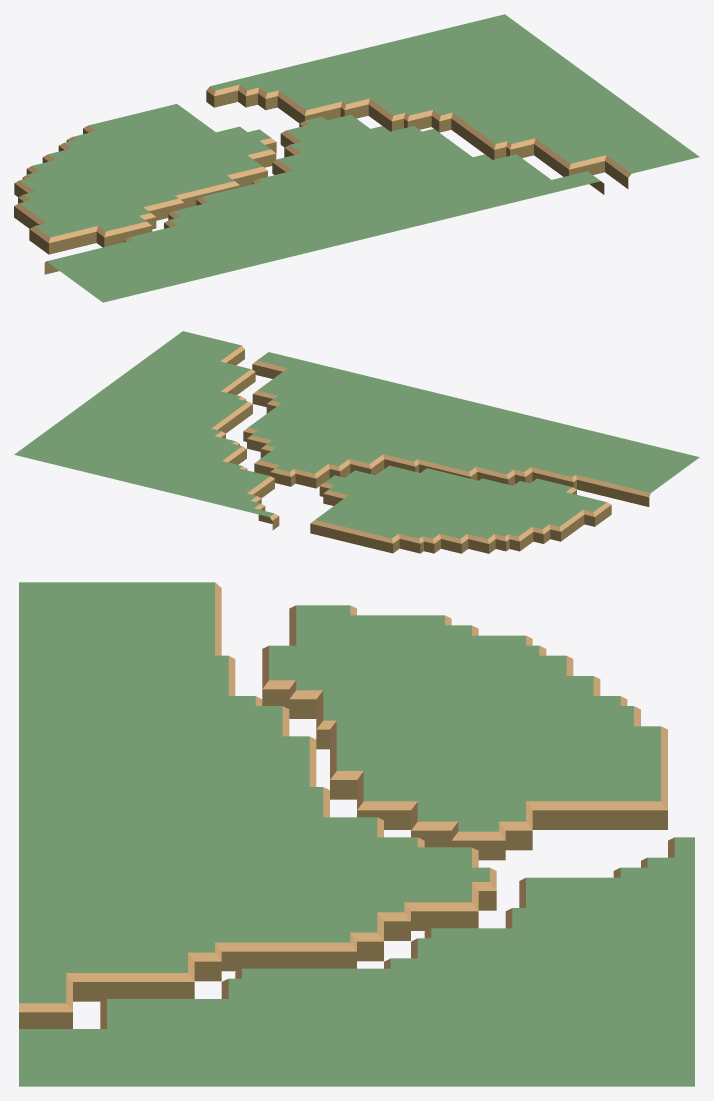
File: Mapa.fbx
3 renders of one model, top to bottom at view 1: azimuth 30°, elevation 25°; view 2: azimuth 150°, elevation 25°; view 3: azimuth 270°, elevation 25°, orthographic. The views are drawn at different scales.
Parts seen in each view (by area): view 1: Mapa; view 2: Mapa; view 3: Mapa.
Part boxes in pixels (x1,y1,x2,y2): Mapa: (14, 14, 699, 302); Mapa: (14, 331, 699, 553); Mapa: (19, 582, 694, 1086).
Size of the model in its own units: 21709 by 518 by 12288.
